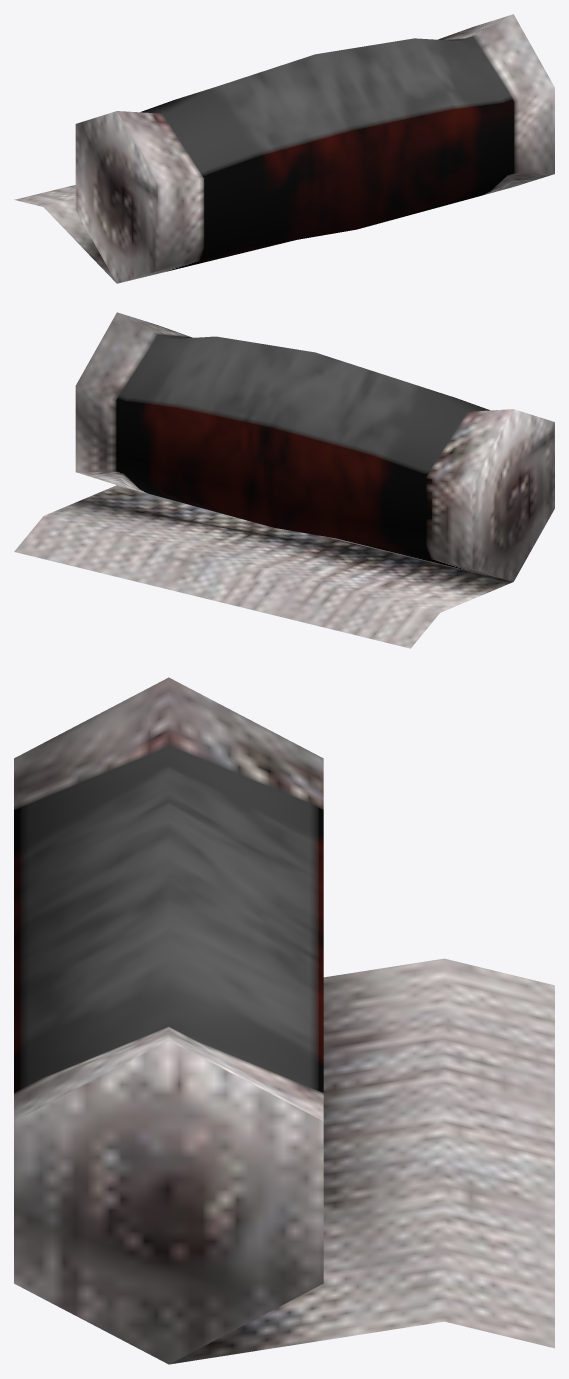
File: bandage.fbx
3 views of the same model, one above another, from view 1: azimuth 30°, elevation 25°; view 2: azimuth 150°, elevation 25°; view 3: azimuth 270°, elevation 25° (orthographic). The views are drawn at different scales.
Parts seen in each view (by area): view 1: Circle; view 2: Circle; view 3: Circle.
Boxes of the visible parts, x1,y1,x2,y2 form: Circle: (14,14,554,283); Circle: (14,312,554,648); Circle: (14,677,554,1364).
Size of the model in its own units: 480 by 210 by 303.
Materials: 1 (1 with a texture image).
